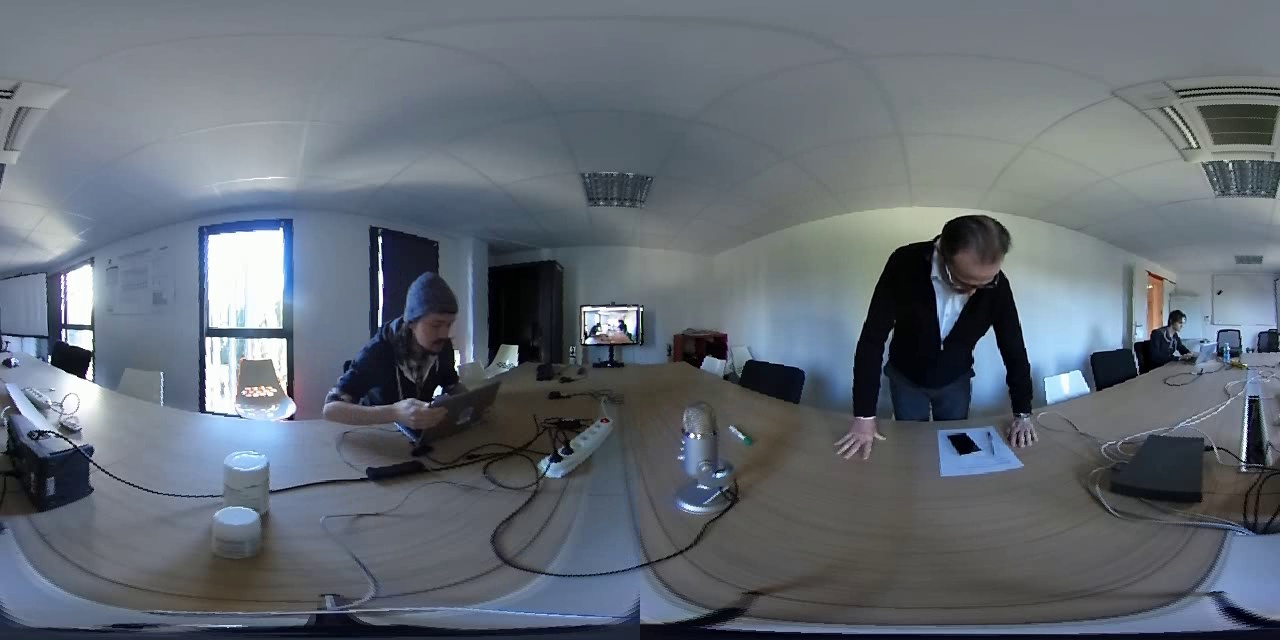person: (865, 206, 1028, 422), (340, 267, 494, 398), (1144, 304, 1204, 362)
